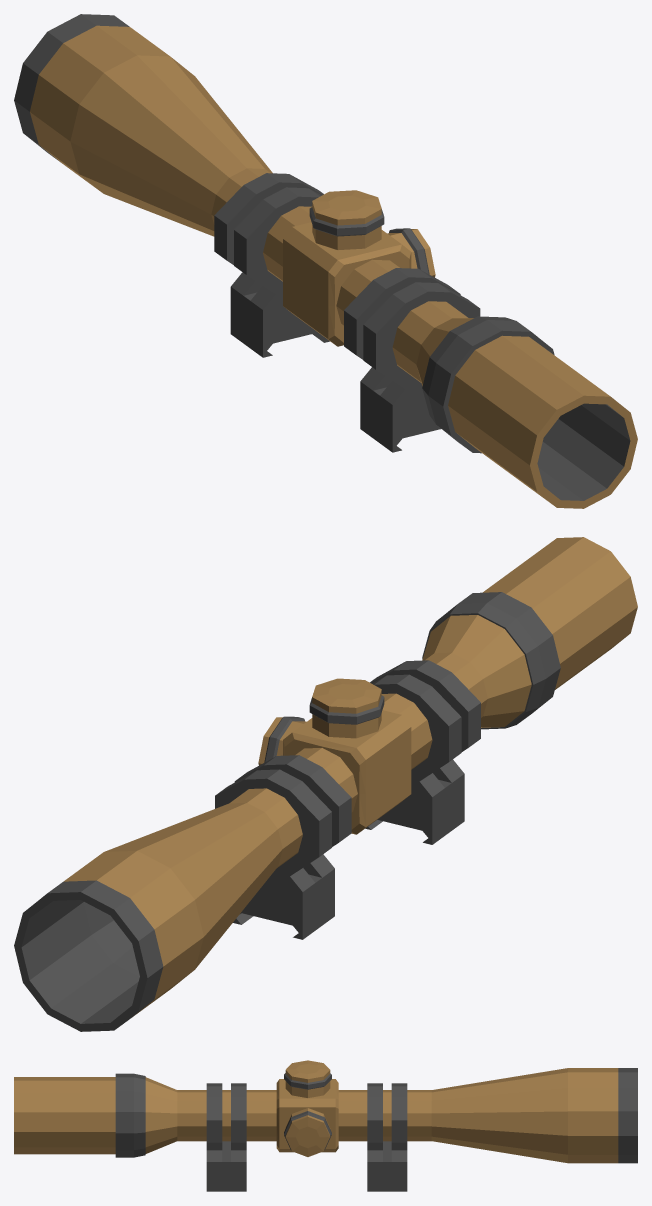
File: TAN_LR_Scope_01.fbx
The picture shows the model from 3 angles, top to bottom: view 1: azimuth 30°, elevation 25°; view 2: azimuth 150°, elevation 25°; view 3: azimuth 270°, elevation 25°; orthographic projection. The views are drawn at different scales.
Parts seen in each view (by area): view 1: TAN_LR_Scope_01, Rings; view 2: TAN_LR_Scope_01, Rings; view 3: TAN_LR_Scope_01, Rings.
Part boxes in pixels (bbox=[...]): TAN_LR_Scope_01: bbox=[14, 14, 637, 508]; Rings: bbox=[214, 173, 480, 452]; TAN_LR_Scope_01: bbox=[14, 537, 637, 1031]; Rings: bbox=[215, 660, 480, 939]; TAN_LR_Scope_01: bbox=[14, 1060, 637, 1163]; Rings: bbox=[206, 1083, 407, 1191].
Bounding box in the file's own units: 110 × 137 × 693.
1 material, 1 textured.
